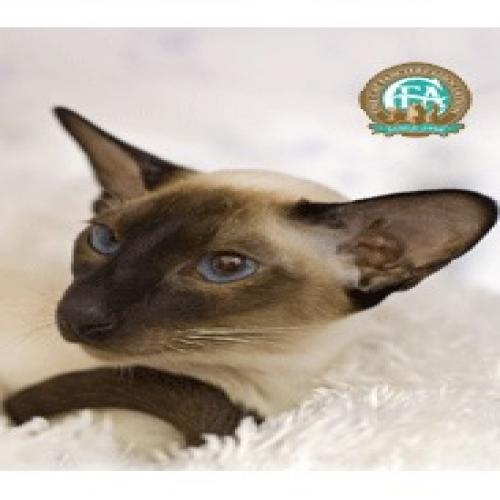siamese: (32, 97, 496, 371)
